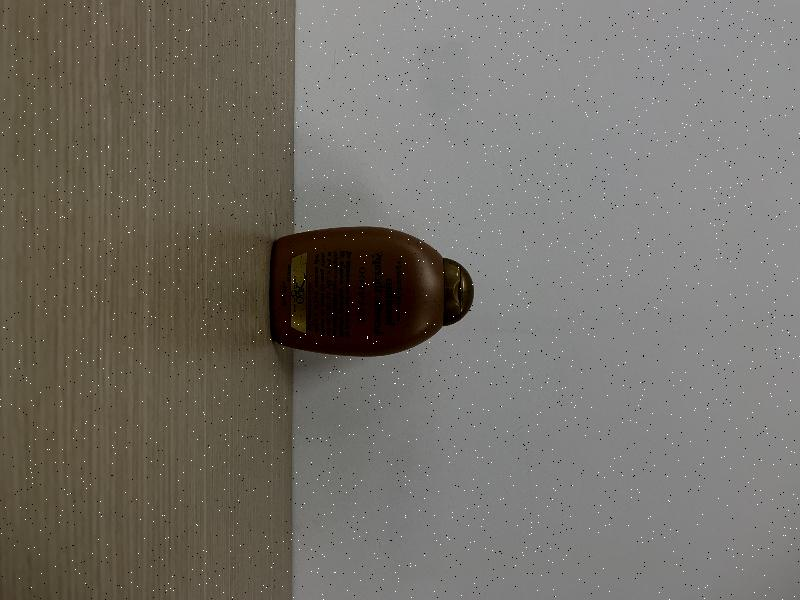BrazilianKeratinTherapy_Shampoo: (269, 227, 473, 358)
